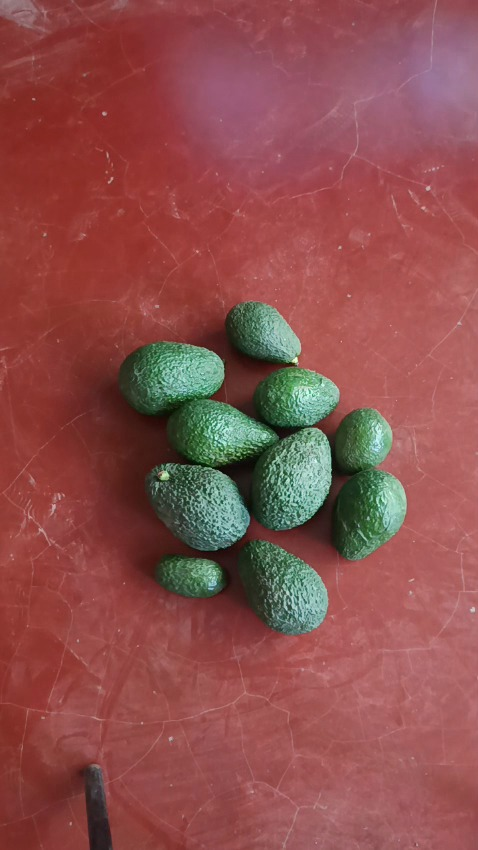Primera: (146, 463, 251, 550), (250, 428, 333, 529), (236, 539, 326, 631), (118, 342, 226, 415), (166, 398, 280, 467)
Segunda: (331, 468, 407, 558), (253, 367, 341, 428)
Tercera: (225, 302, 301, 364), (333, 408, 393, 473), (153, 554, 227, 598)
